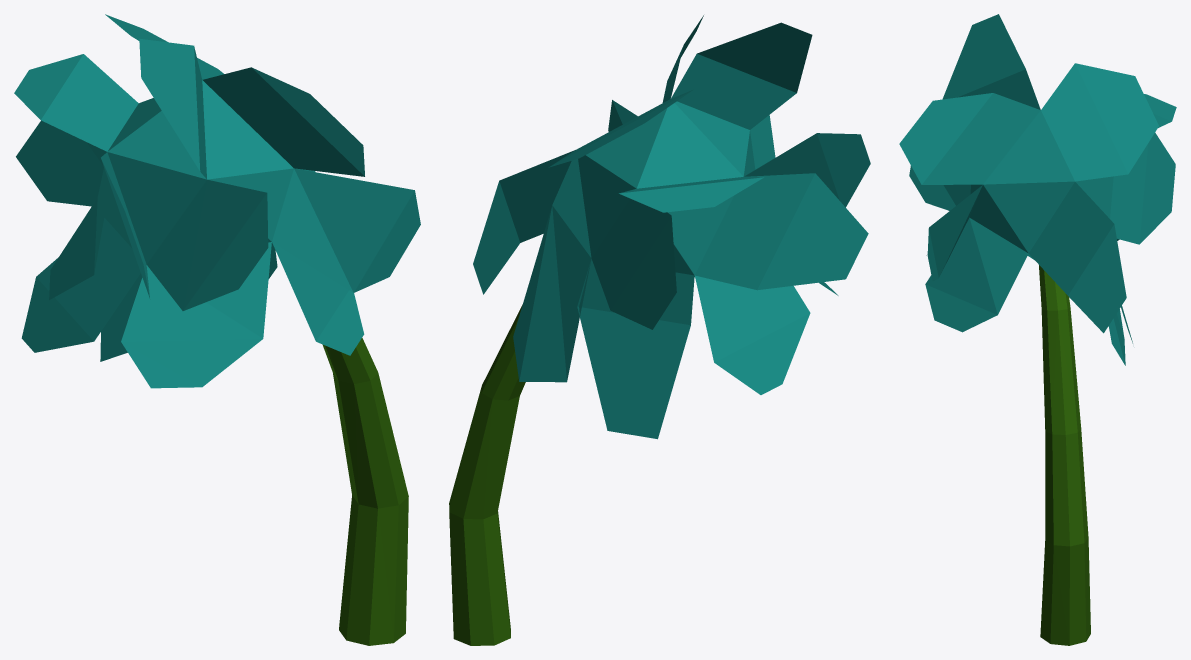
Rendered from blue_flower.obj.
3 views of the same model, side by side, from view 1: azimuth 30°, elevation 25°; view 2: azimuth 150°, elevation 25°; view 3: azimuth 270°, elevation 25° (orthographic). The views are drawn at different scales.
Parts seen in each view (by area): view 1: f4_Cylinder.043; view 2: f4_Cylinder.043; view 3: f4_Cylinder.043.
Boxes of the visible parts, <box> form: f4_Cylinder.043: <box>14,14,420,645</box>; f4_Cylinder.043: <box>449,15,870,645</box>; f4_Cylinder.043: <box>899,14,1176,645</box>.
Size of the model in its own units: 0.7935 by 1.31 by 0.6328.
